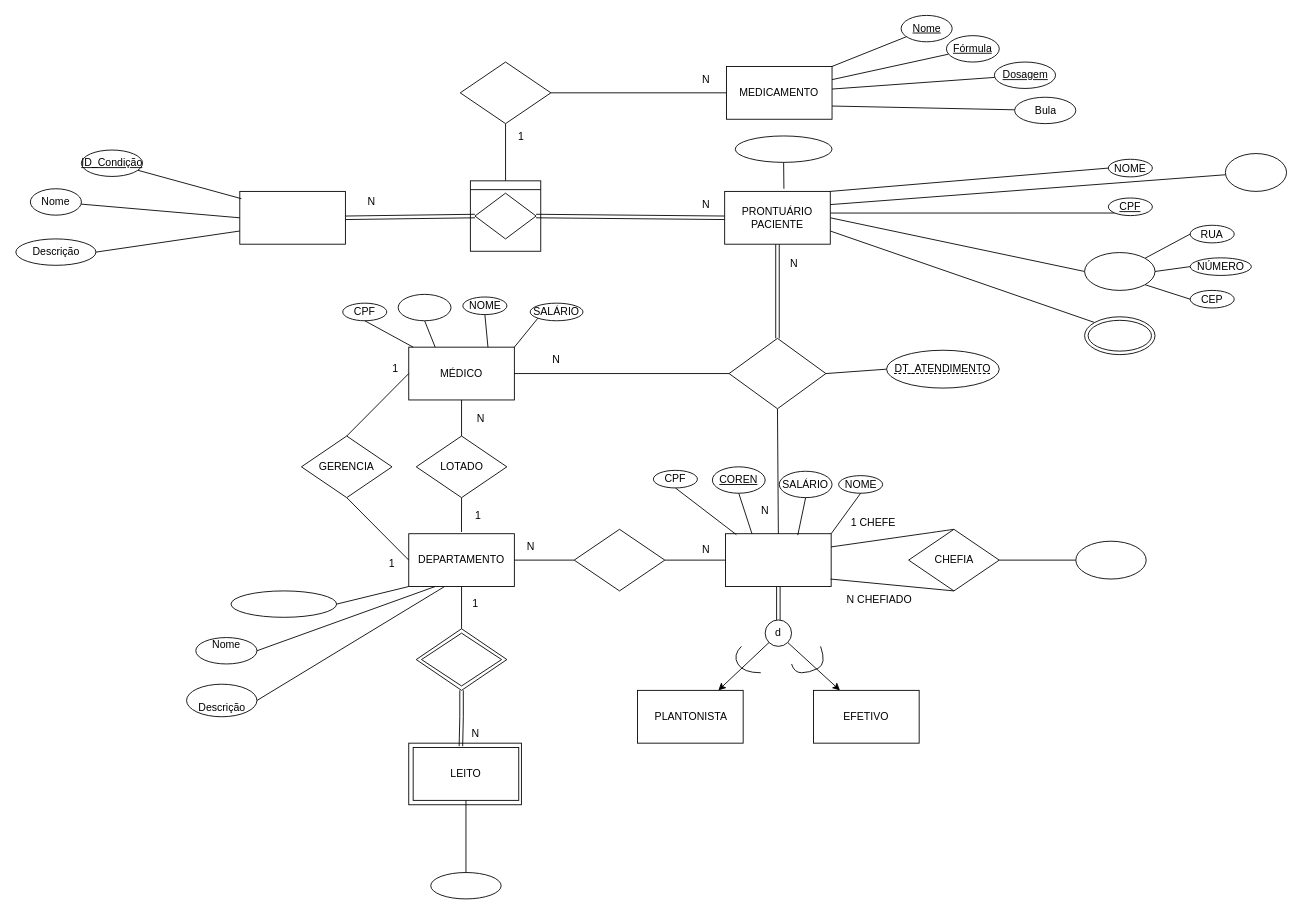
Some shapes in this 1303 by 914 pixel diagram are drawn without their labels. Here are the shapes that lost their labels. From the top down, the centre of each, then its label:
point 505,92: ADMINISTRADO
point 783,148: DT_NASCIMENTO
point 1256,172: ID_Prontuário
point 292,217: CONDIÇÃO
point 505,215: POSSUI
point 1119,271: ENDEREÇO
point 424,307: CRM
point 1119,335: TELEFONE
point 777,373: ATENDIMENTO
point 619,559: ATUA
point 778,560: ENFERMEIRO
point 1110,559: DT_INICIO
point 283,603: ID_Departamento
point 461,659: TEM
point 465,885: ID_Leito
